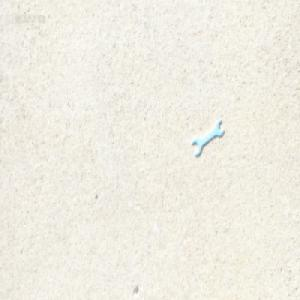Wrench: (191, 120, 222, 156)
